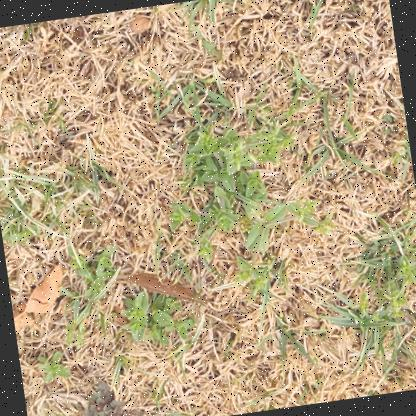Weeds: (154, 98, 347, 312), (117, 284, 194, 354), (379, 251, 415, 337), (72, 249, 124, 301), (81, 373, 145, 415), (37, 351, 72, 385), (43, 409, 73, 415)
